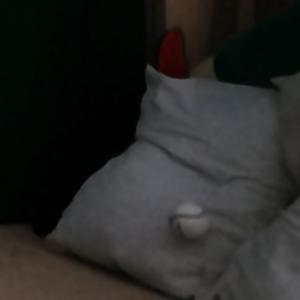ball: (169, 200, 212, 246)
